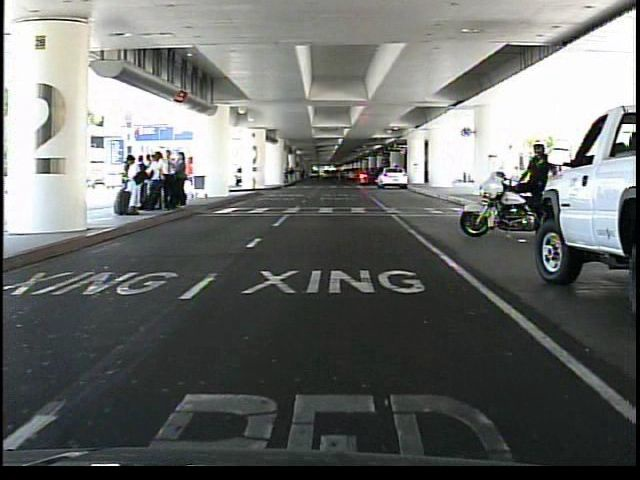person: (517, 132, 558, 241)
